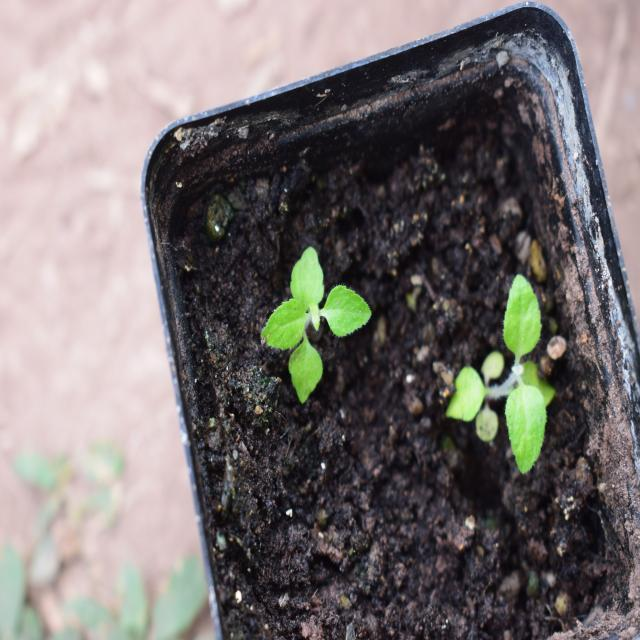billygoat_weed: (434, 253, 576, 482), (252, 247, 376, 407)
